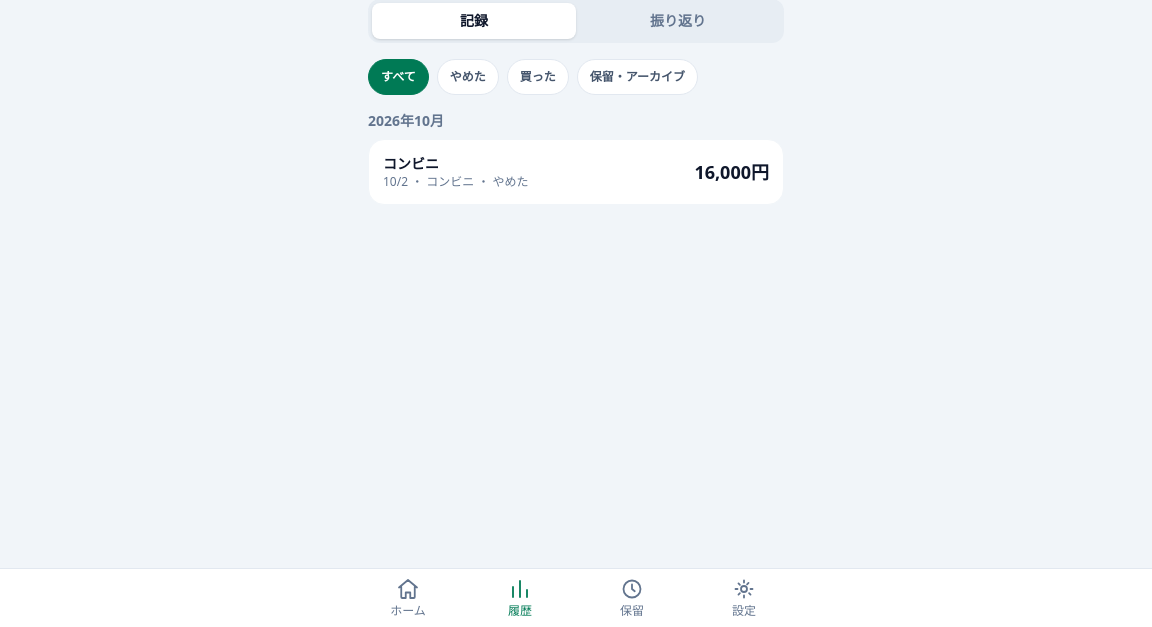
振り返りタブ: 価値尺度・目標への到達度 › 目標への到達度が表示される
Click the tab "振り返り" at (678, 21), box [576, 3, 780, 39]
(page scrolled)
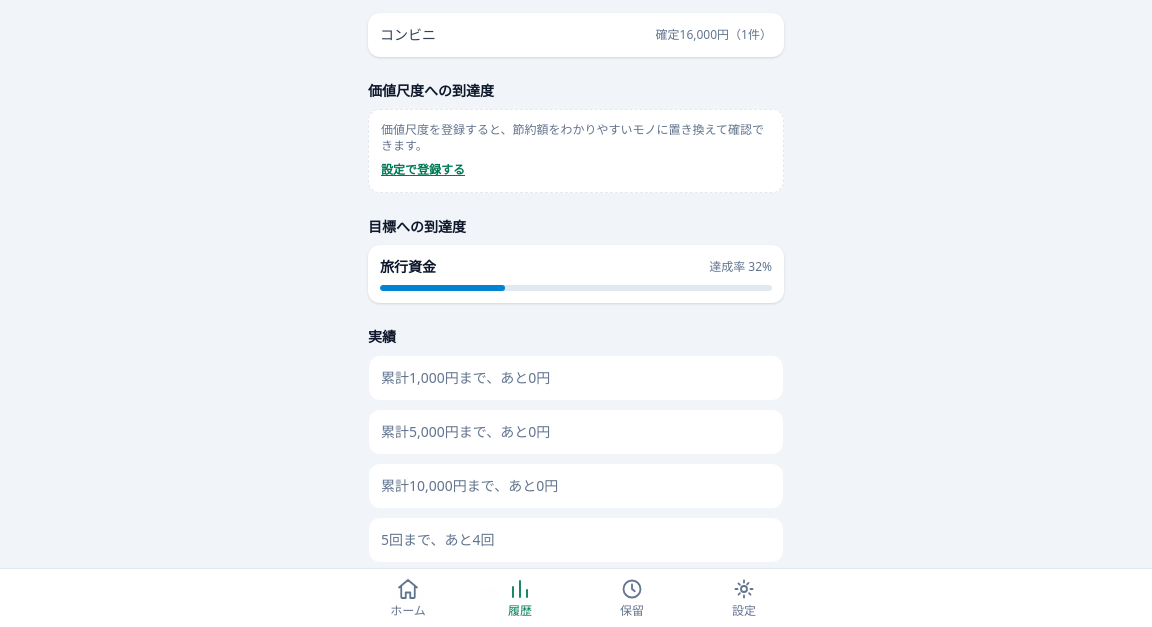
Check: the text "達成率 32%" is shown, box [709, 259, 772, 275]
